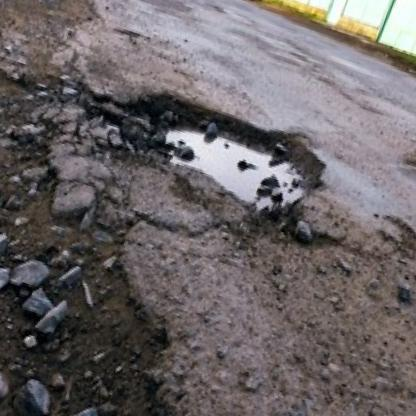pothole: (127, 81, 341, 250)
